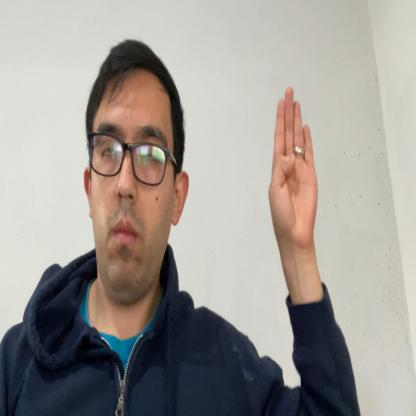B: (269, 86, 318, 250)
